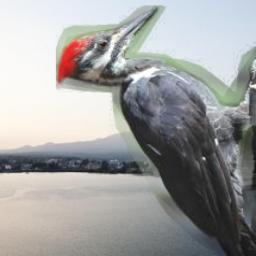Woodpecker: (55, 6, 256, 256)
